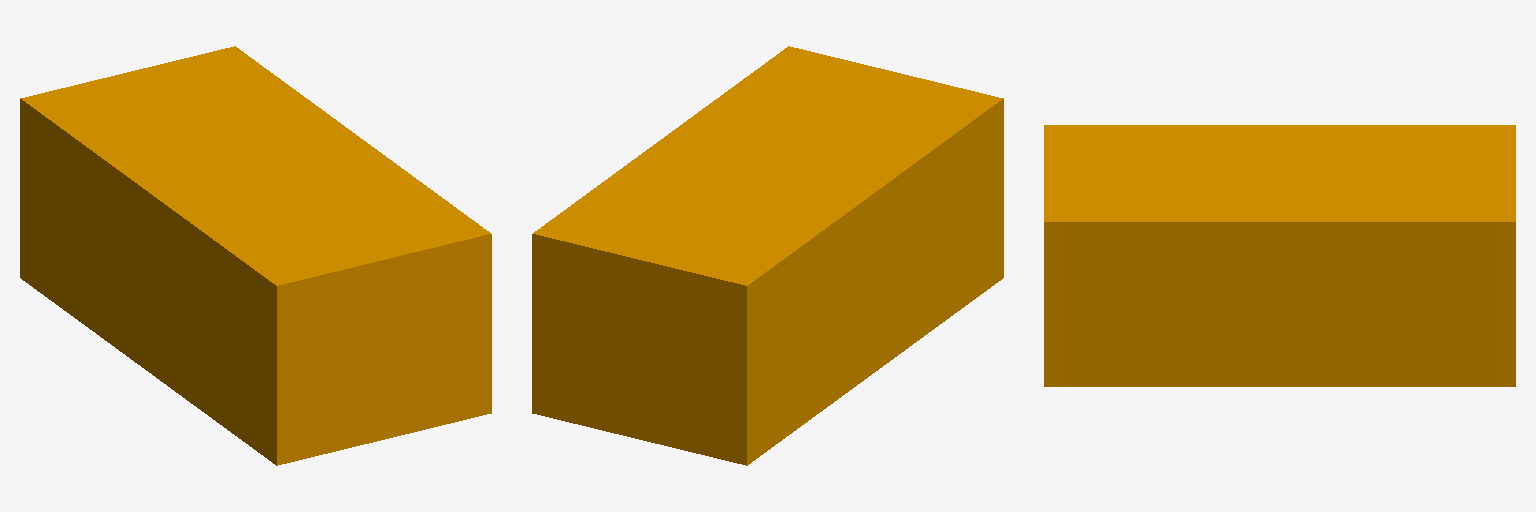
URDF robot description (2x2):
<?xml version='1.0' encoding='UTF-8'?>
<robot name="2x2">
  <link name="base_link">
    <inertial>
      <origin xyz="0.0 0.0 0.0" rpy="0.0 0.0 0.0"/>
      <mass value="0.01"/>
      <inertia ixx="0.1" ixy="0.0" ixz="0.0" iyy="0.1" iyz="0.0" izz="0.1"/>
    </inertial>
    <visual>
      <geometry>
        <box size="0.015 0.031 0.012"/>
      </geometry>
      <material name=""/>
      <origin xyz="0.0 0.0 0.0" rpy="0.0 0.0 0.0"/>
    </visual>
    <collision>
      <geometry>
        <box size="0.015 0.031 0.012"/>
      </geometry>
      <origin xyz="0.0 0.0 0.0" rpy="0.0 0.0 0.0"/>
    </collision>
  </link>
  <material name="">
    <color rgba="1. 1. 1. 1."/>
  </material>
  <contact>
    <lateral_friction value="1.0"/>
    <rolling_friction value="0.0"/>
    <contact_cfm value="0.0"/>
    <contact_erp value="1.0"/>
  </contact>
</robot>

--- Render facts (derived) ---
The picture shows the robot from 3 angles, left to right: view 1: azimuth 30°, elevation 25°; view 2: azimuth 150°, elevation 25°; view 3: azimuth 270°, elevation 25°; orthographic projection.
Model 2x2 with 1 links and 0 joints (none), rooted at base_link, posed every joint at zero.
Visible links, largest first — view 1: base_link; view 2: base_link; view 3: base_link.
Link boxes in pixels (bbox=[...]): base_link: bbox=[20, 46, 491, 465]; base_link: bbox=[532, 46, 1003, 465]; base_link: bbox=[1044, 125, 1515, 386].
Bounding box of the posed robot: 0.015 × 0.031 × 0.012 m (x, y, z).
Geometry: primitives only (box / cylinder / sphere), no mesh files.